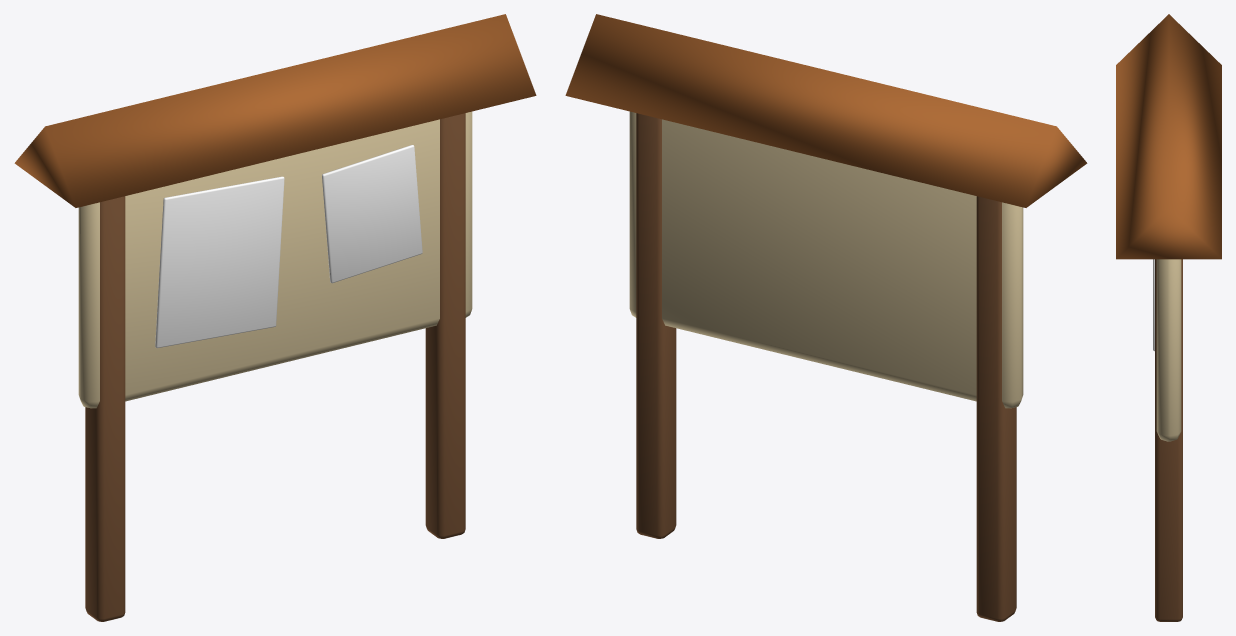
File: signboard.glb
3 renders of one model, left to right at view 1: azimuth 30°, elevation 25°; view 2: azimuth 150°, elevation 25°; view 3: azimuth 270°, elevation 25°, orthographic. The views are drawn at different scales.
Visible parts, largest first — view 1: sign; view 2: sign; view 3: sign.
Boxes of the visible parts, x1,y1,x2,y2 form: sign: (14,14,536,621); sign: (565,14,1087,621); sign: (1116,14,1221,621).
Size of the model in its own units: 1.3 by 1.36 by 0.3.
